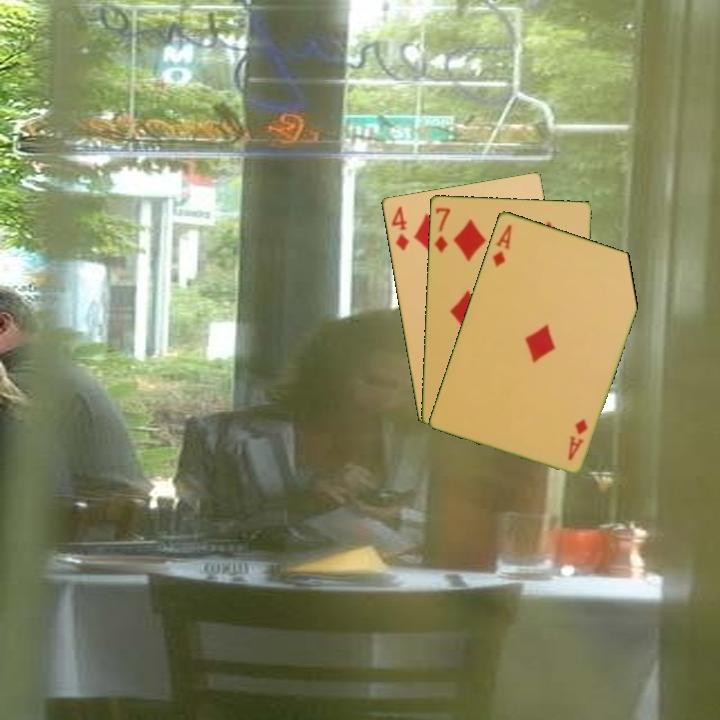4d: (387, 202, 412, 253)
7d: (431, 204, 453, 255)
Ad: (489, 220, 515, 270), (564, 415, 590, 463)
